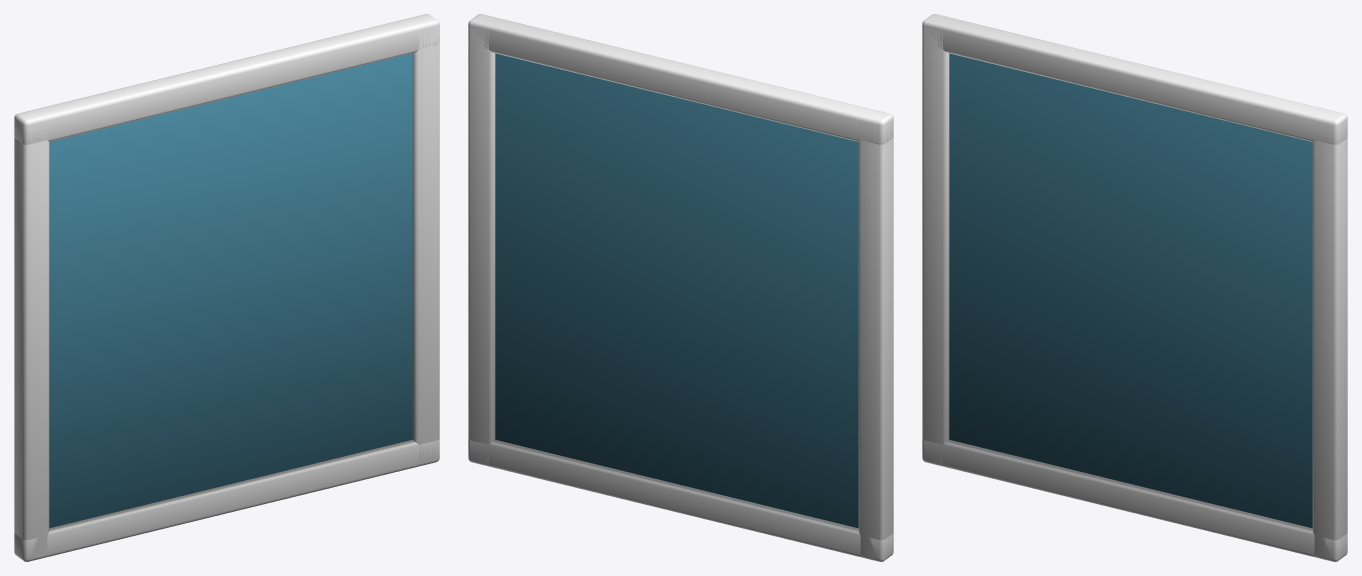
File: glass-pane.obj
The picture shows the model from 3 angles, left to right: view 1: azimuth 30°, elevation 25°; view 2: azimuth 150°, elevation 25°; view 3: azimuth 330°, elevation 25°; orthographic projection.
Visible parts, largest first — view 1: glass-pane; view 2: glass-pane; view 3: glass-pane.
Boxes of the visible parts, box(x1,y1,x2,y2) form: glass-pane: box(14, 14, 439, 561); glass-pane: box(468, 14, 893, 561); glass-pane: box(922, 14, 1347, 561).
Size of the model in its own units: 0.88 by 0.8925 by 0.045.
